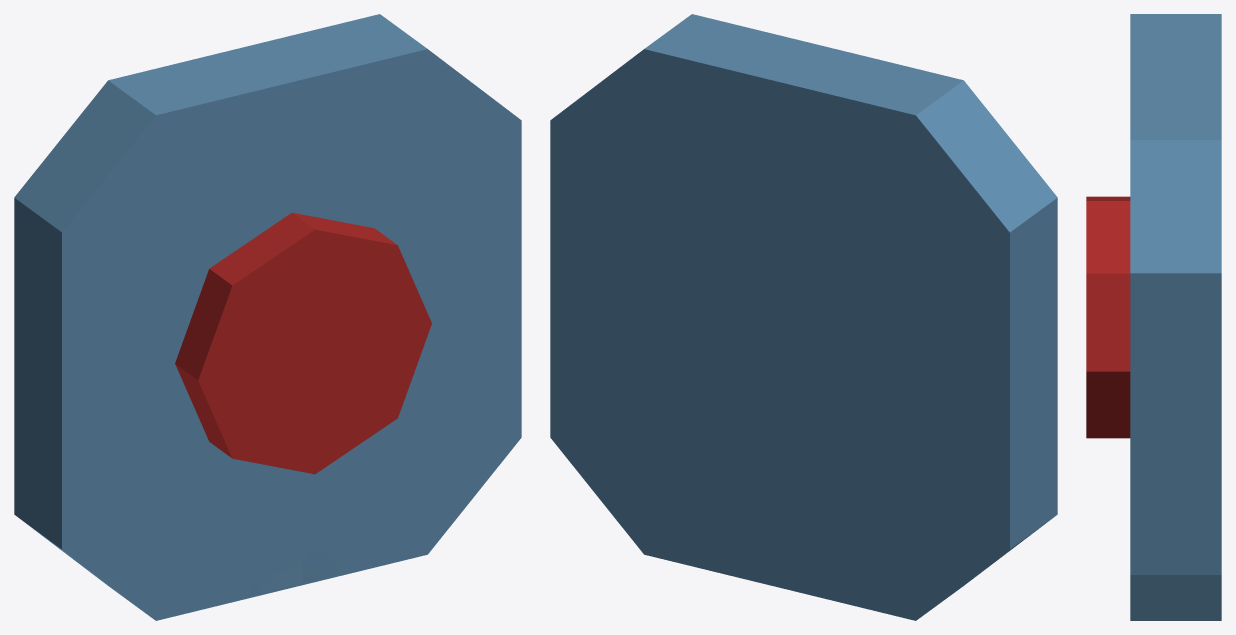
The model's file is Button.fbx.
The picture shows the model from 3 angles, left to right: view 1: azimuth 30°, elevation 25°; view 2: azimuth 150°, elevation 25°; view 3: azimuth 270°, elevation 25°; orthographic projection. The views are drawn at different scales.
Parts seen in each view (by area): view 1: Cube.002, Cube.001; view 2: Cube.002; view 3: Cube.002, Cube.001.
Part boxes in pixels (bbox=[...]): Cube.002: bbox=[14, 14, 521, 620]; Cube.001: bbox=[175, 212, 431, 474]; Cube.002: bbox=[550, 14, 1057, 620]; Cube.002: bbox=[1130, 14, 1221, 620]; Cube.001: bbox=[1086, 196, 1130, 438].
Size of the model in its own units: 200 by 210 by 53.61.
Materials: 1 (1 with a texture image).
